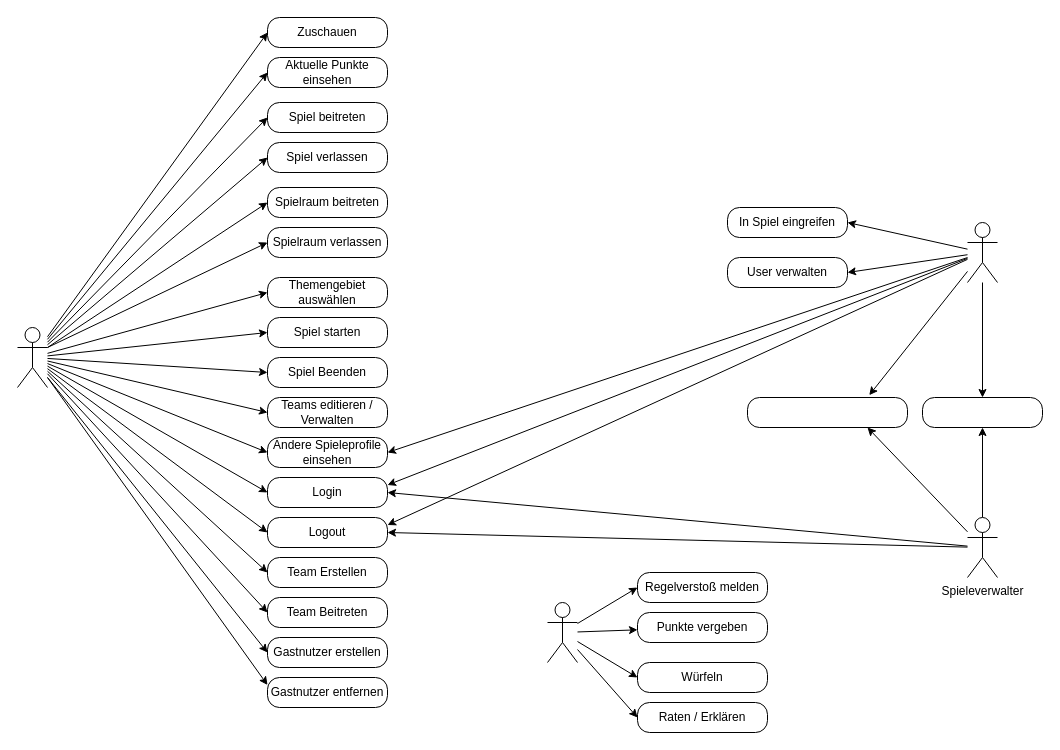
Some shapes in this 1060 by 750 pixel diagram are drawn without their labels. Here are the shapes that lost their labels. From the top down, the centre of each, then its label:
At point 982,252: "Admin".
At point 32,357: "User".
At point 827,412: "aktuelle Spiele überwachen".
At point 982,412: "Themengebiete verwalten".
At point 562,632: "Team".
